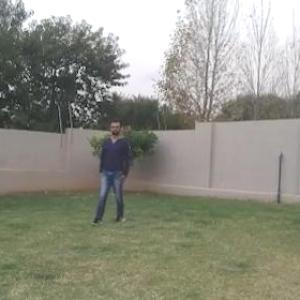follow: (101, 120, 126, 220)
